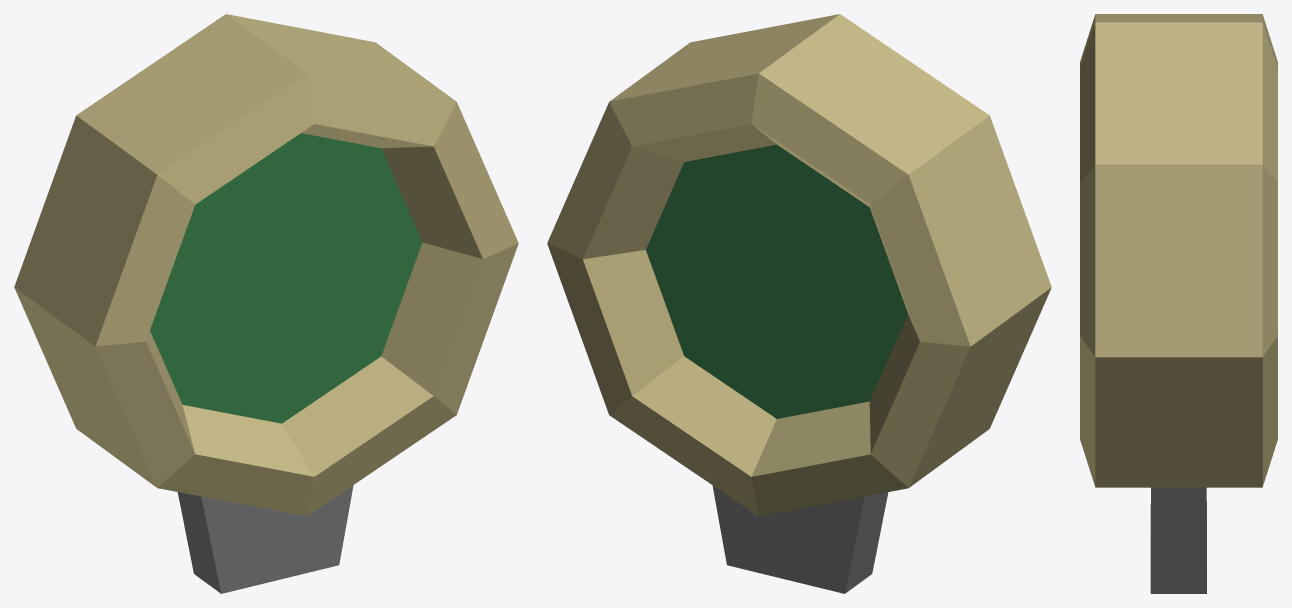
Rendered from Scope1.fbx.
3 renders of one model, left to right at view 1: azimuth 30°, elevation 25°; view 2: azimuth 150°, elevation 25°; view 3: azimuth 270°, elevation 25°, orthographic. The views are drawn at different scales.
Parts seen in each view (by area): view 1: SniperRifle_B.005; view 2: SniperRifle_B.005; view 3: SniperRifle_B.005.
Boxes of the visible parts, <box> form: SniperRifle_B.005: <box>14,14,518,593</box>; SniperRifle_B.005: <box>547,14,1051,593</box>; SniperRifle_B.005: <box>1080,14,1277,593</box>.
Size of the model in its own units: 84.37 by 100 by 33.15.
